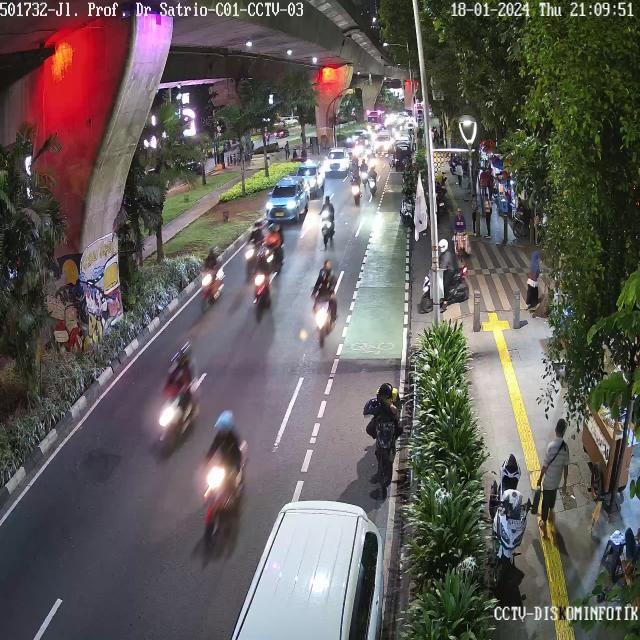Gerobak: (578, 389, 637, 509), (495, 177, 509, 217)
Payung: (493, 153, 520, 173)
